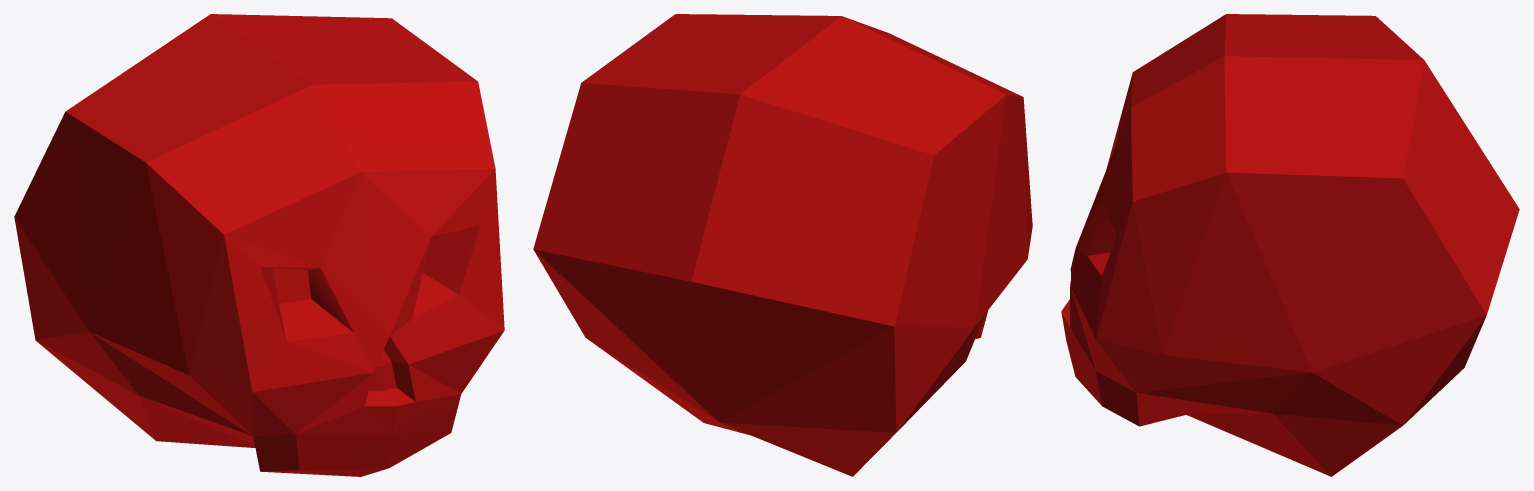
The model's file is bones.fbx.
3 views of the same model, side by side, from view 1: azimuth 30°, elevation 25°; view 2: azimuth 150°, elevation 25°; view 3: azimuth 270°, elevation 25° (orthographic). The views are drawn at different scales.
Parts seen in each view (by area): view 1: HellSkull; view 2: HellSkull; view 3: HellSkull.
Boxes of the visible parts, x1=… form: HellSkull: x1=14, y1=14, x2=504, y2=476; HellSkull: x1=533, y1=14, x2=1032, y2=476; HellSkull: x1=1061, y1=14, x2=1519, y2=476.
Bounding box in the file's own units: 1.09 × 1.13 × 1.23.
